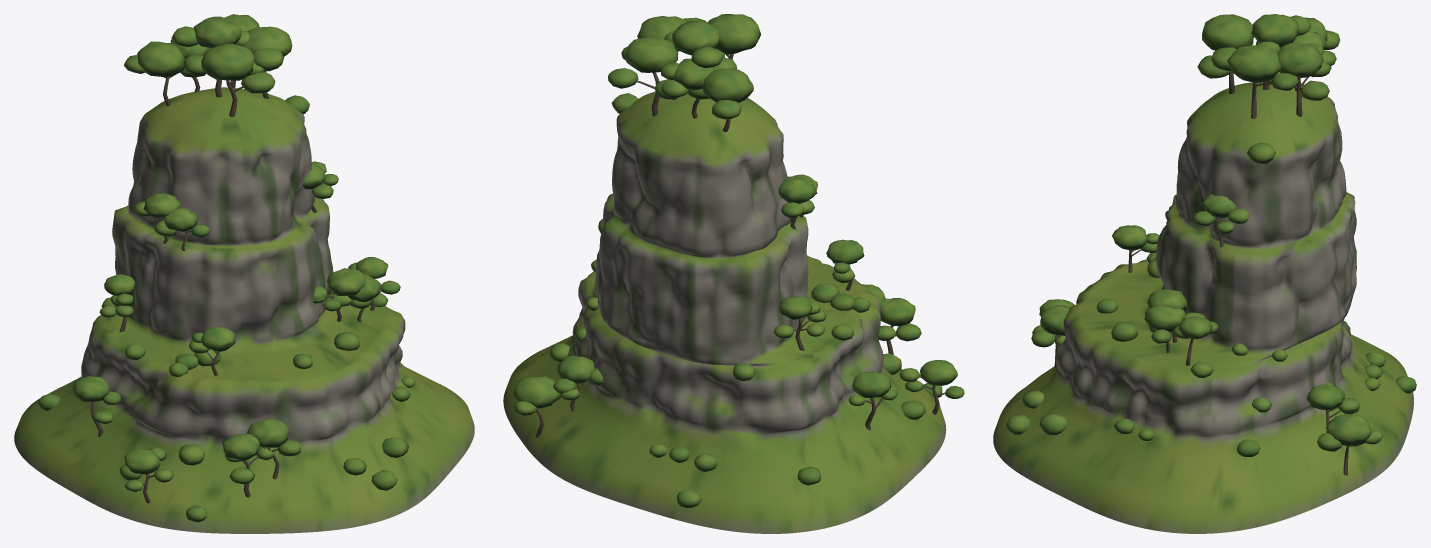
File: rockisle.glb
3 views of the same model, side by side, from view 1: azimuth 30°, elevation 25°; view 2: azimuth 150°, elevation 25°; view 3: azimuth 270°, elevation 25° (orthographic). The views are drawn at different scales.
Parts seen in each view (by area): view 1: rock, trees; view 2: rock, trees; view 3: rock, trees.
Part boxes in pixels (left/top/right/bottom): rock: left=14, top=87, right=474, bottom=533; trees: left=38, top=14, right=415, bottom=522; rock: left=503, top=91, right=946, bottom=533; trees: left=513, top=14, right=964, bottom=508; rock: left=993, top=82, right=1413, bottom=533; trees: left=1006, top=14, right=1416, bottom=475.
Bounding box in the file's own units: 92.63 × 93.78 × 86.55.
